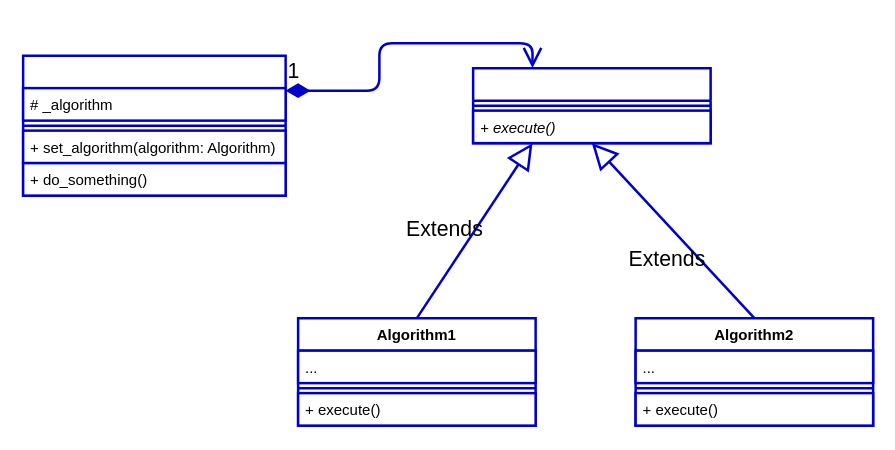
Image size: 895x450. Some labels were removed from this diagram. Each missing label, with the box of its shape:
Algorithm: (471, 66, 711, 144)
Executer: (21, 54, 286, 196)
